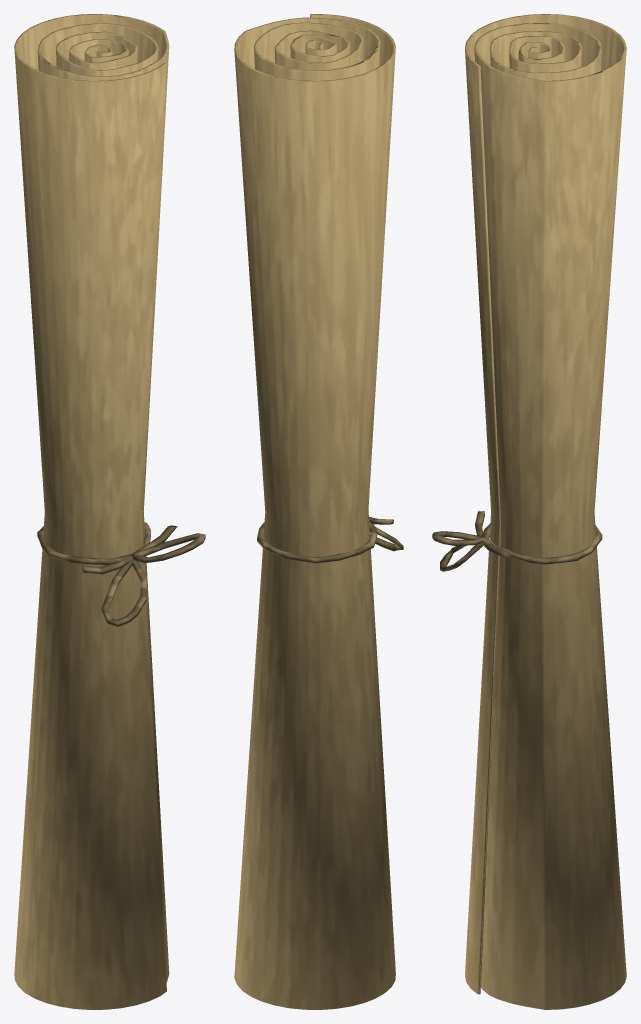
File: Pergamino.fbx
The picture shows the model from 3 angles, left to right: view 1: azimuth 30°, elevation 25°; view 2: azimuth 150°, elevation 25°; view 3: azimuth 270°, elevation 25°; orthographic projection.
Visible parts, largest first — view 1: Plane.001; view 2: Plane.001; view 3: Plane.001.
Boxes of the visible parts, box(x1,y1,x2,y2) form: Plane.001: box(14, 14, 205, 1009); Plane.001: box(234, 14, 403, 1009); Plane.001: box(432, 14, 626, 1009).
Size of the model in its own units: 0.0118 by 0.0748 by 0.0142.
Materials: 2 (2 with a texture image).
